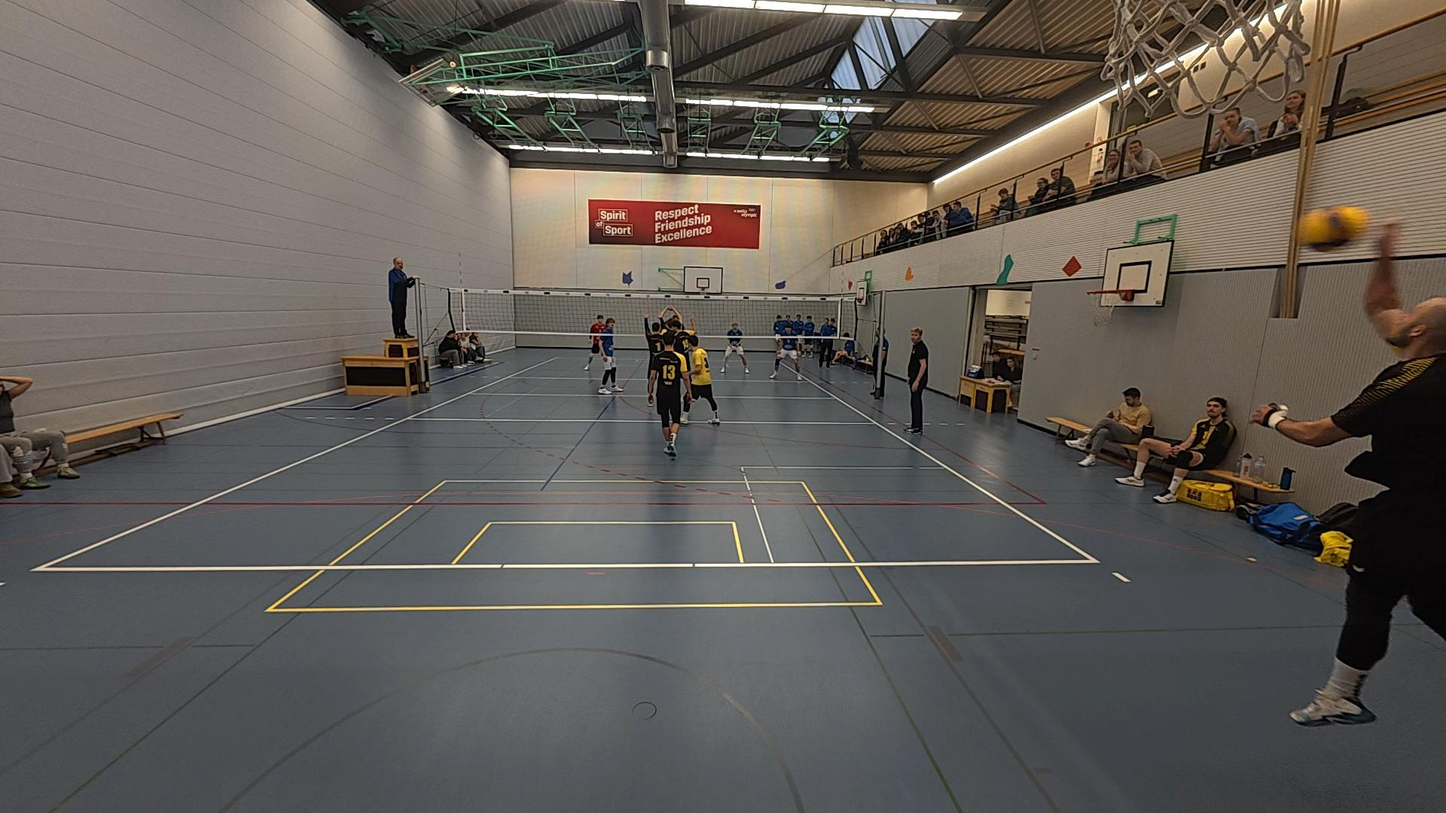Player: (646, 333, 685, 458), (685, 334, 721, 427), (769, 315, 804, 381), (592, 317, 621, 396), (642, 310, 665, 407), (720, 319, 749, 373), (585, 314, 610, 371), (815, 315, 840, 366), (769, 312, 788, 358), (678, 312, 698, 350)
Serve: (1246, 219, 1446, 730)
ball: (1297, 204, 1371, 248)
